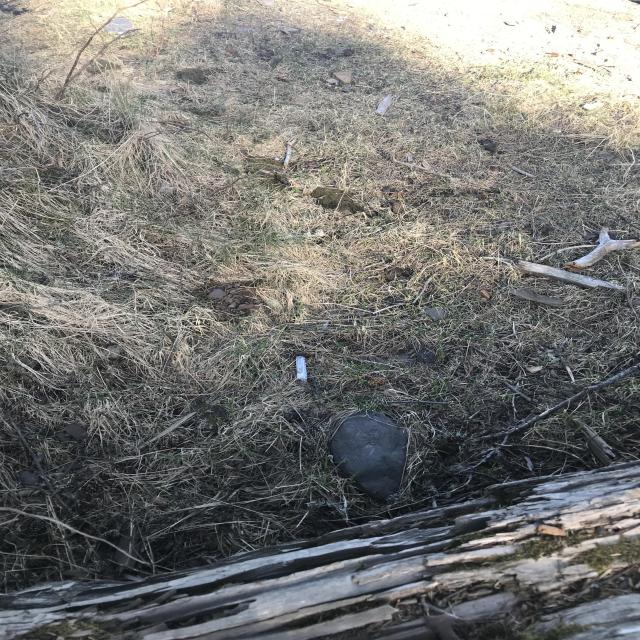litter: (295, 356, 307, 384)
